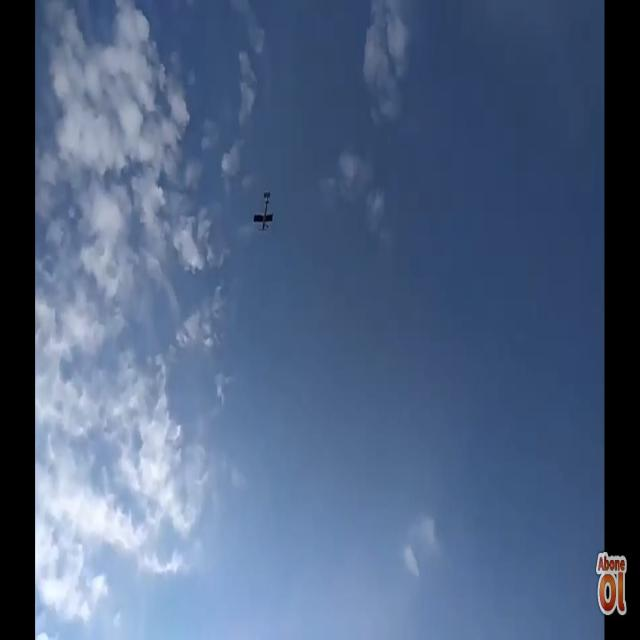iha: (246, 190, 267, 233)
